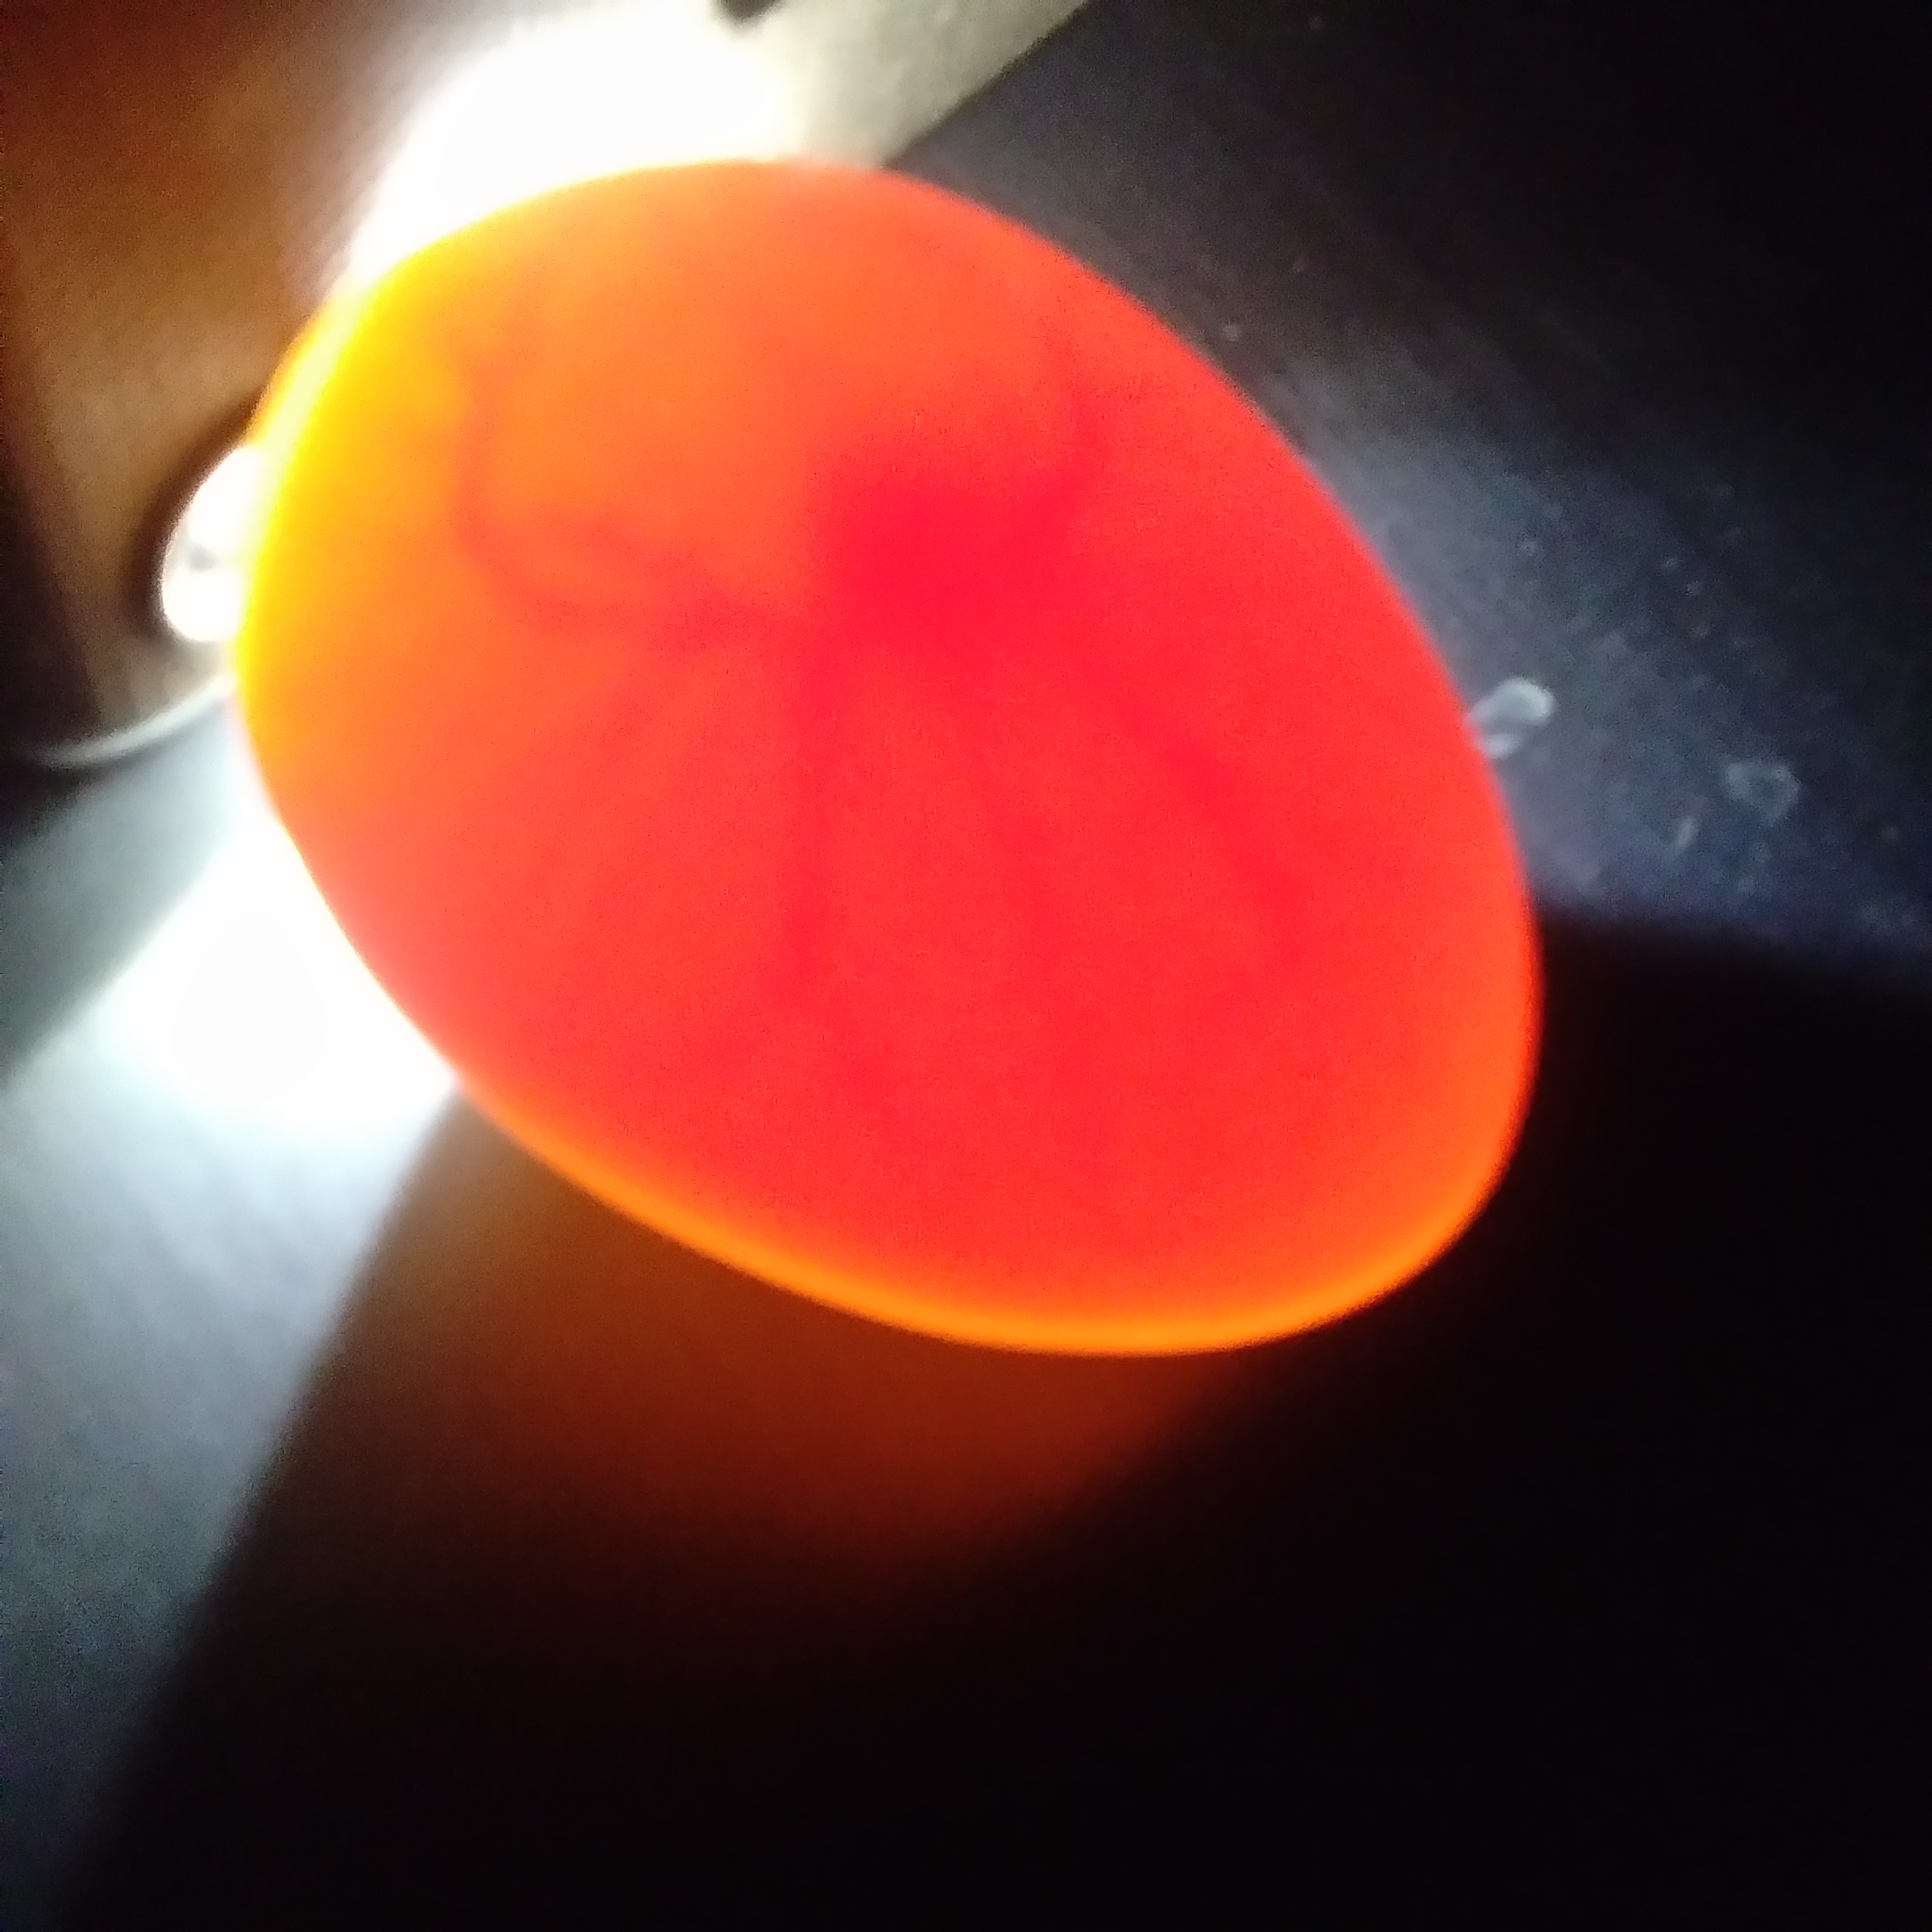bloodcell: (846, 750, 1373, 1214), (375, 347, 764, 878)
